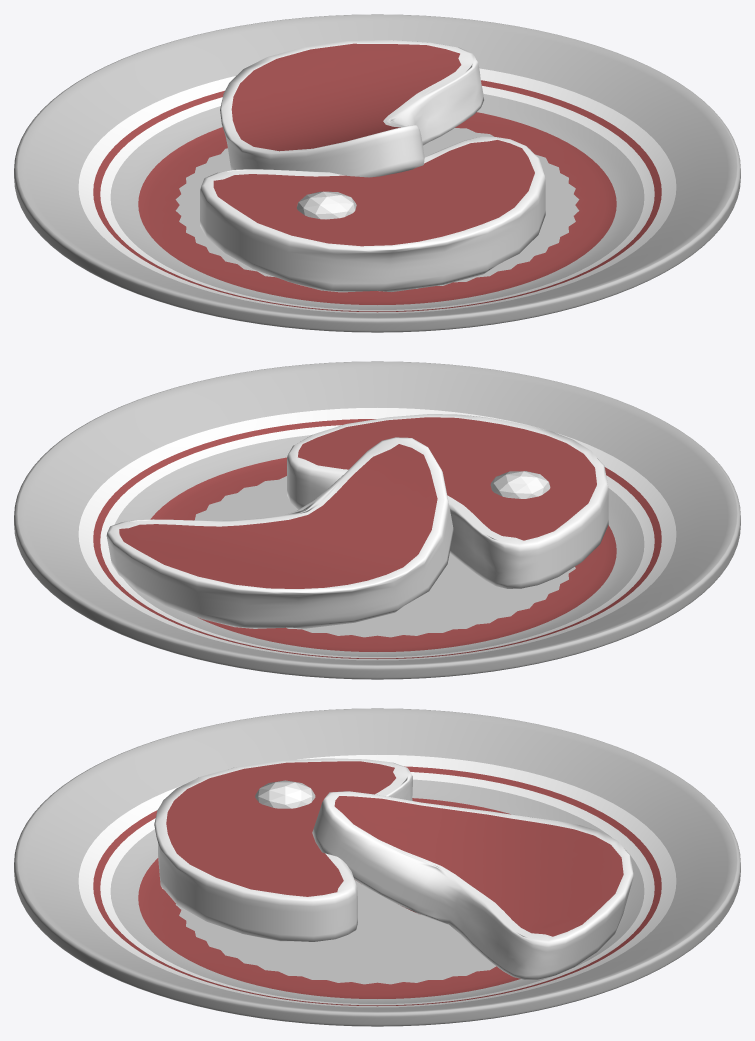
Rendered from cef4dfed-edef-448b-a9da-ec8cfa4a0355.glb.
3 renders of one model, top to bottom at view 1: azimuth 30°, elevation 25°; view 2: azimuth 150°, elevation 25°; view 3: azimuth 270°, elevation 25°, orthographic.
Visible parts, largest first — view 1: ChamferCyl001, Cylinder001, Cylinder002, GeoSphere001; view 2: ChamferCyl001, Cylinder002, Cylinder001, GeoSphere001; view 3: ChamferCyl001, Cylinder002, Cylinder001, GeoSphere001.
Boxes of the visible parts, left/top/right/bottom form: ChamferCyl001: left=14, top=14, right=740, bottom=332; Cylinder001: left=200, top=136, right=545, bottom=292; Cylinder002: left=220, top=40, right=483, bottom=177; GeoSphere001: left=297, top=191, right=356, bottom=219; ChamferCyl001: left=14, top=361, right=740, bottom=679; Cylinder002: left=106, top=437, right=453, bottom=628; Cylinder001: left=287, top=414, right=608, bottom=588; GeoSphere001: left=490, top=471, right=550, bottom=498; ChamferCyl001: left=14, top=708, right=740, bottom=1026; Cylinder002: left=312, top=791, right=633, bottom=979; Cylinder001: left=154, top=758, right=412, bottom=941; GeoSphere001: left=255, top=780, right=315, bottom=808.
Size of the model in its own units: 83.5 by 13.99 by 83.5.
